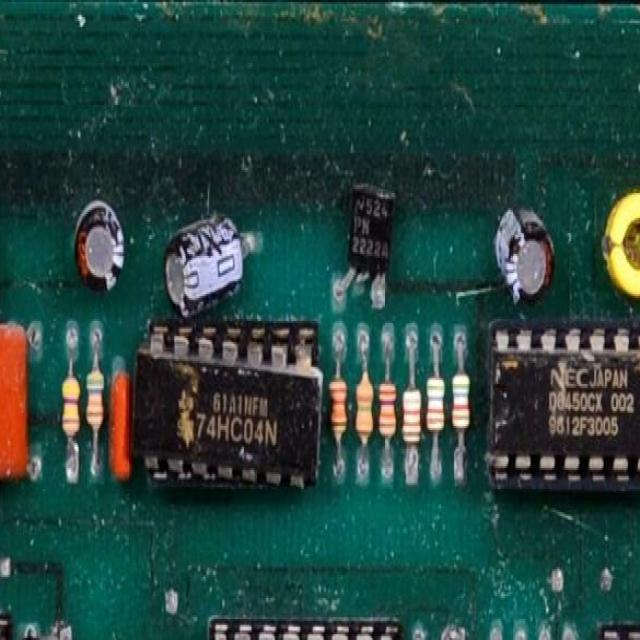IC: (145, 336, 315, 513), (496, 344, 640, 497), (186, 600, 395, 640), (0, 630, 22, 640), (601, 634, 640, 639)
capacitor: (163, 220, 258, 305), (499, 197, 548, 325), (75, 195, 126, 300), (0, 319, 30, 495), (110, 346, 130, 480)
resistor: (57, 363, 82, 461), (84, 353, 106, 449), (328, 374, 354, 454), (448, 355, 469, 445), (398, 382, 425, 444), (426, 365, 447, 440), (382, 372, 398, 460), (354, 376, 374, 440)
